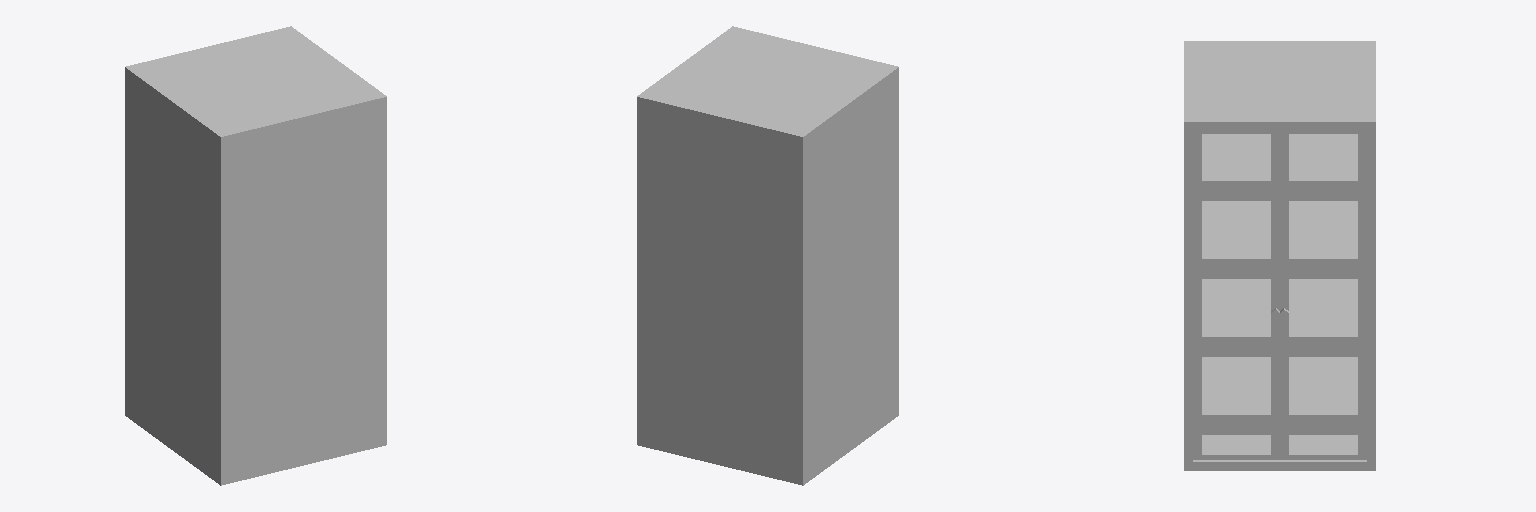
File: rack_02.obj
3 views of the same model, side by side, from view 1: azimuth 30°, elevation 25°; view 2: azimuth 150°, elevation 25°; view 3: azimuth 270°, elevation 25° (orthographic).
Visible parts, largest first — view 1: Cube; view 2: Cube; view 3: Cube, Cube.001.
Part boxes in pixels (left/top/right/bottom): Cube: left=125, top=26, right=386, bottom=485; Cube: left=637, top=26, right=898, bottom=485; Cube: left=1184, top=41, right=1375, bottom=470; Cube.001: left=1193, top=131, right=1366, bottom=459.
Bounding box in the file's own units: 2 × 4 × 2.